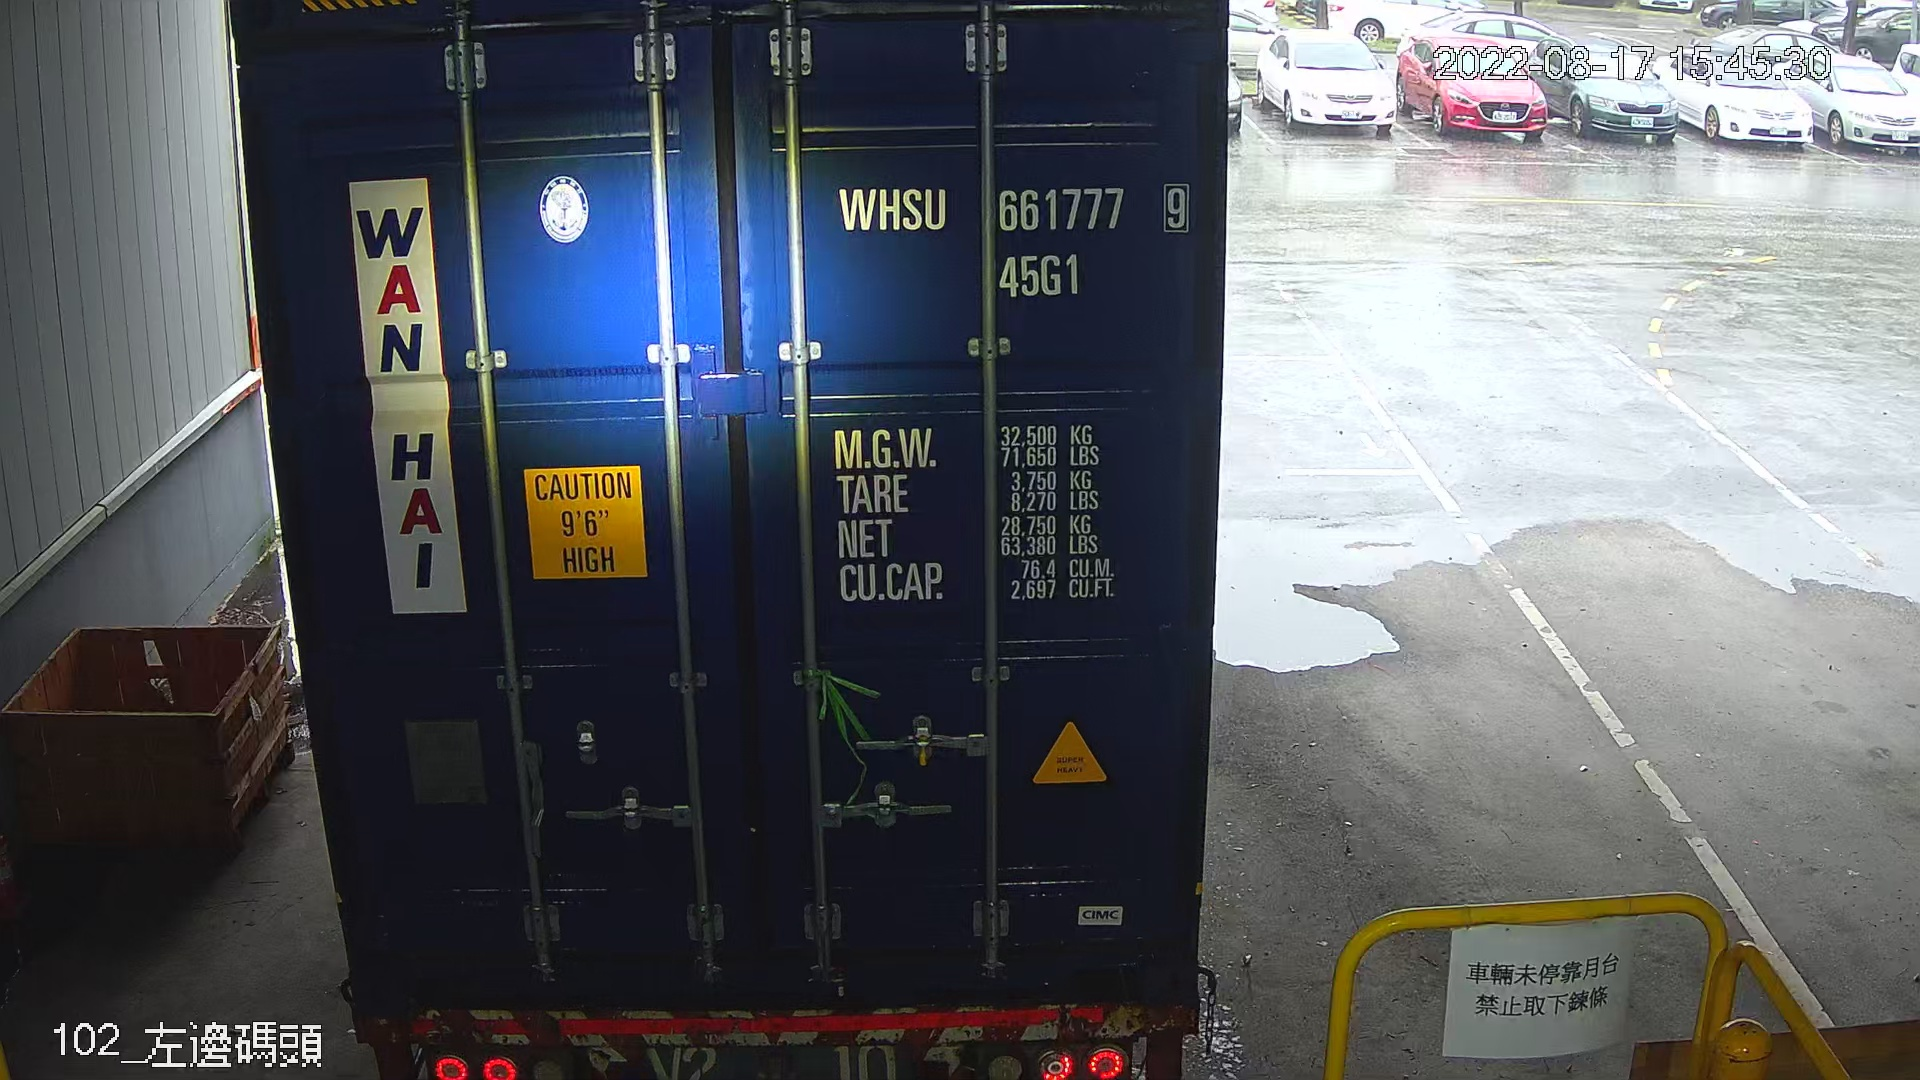container: (825, 173, 1204, 316)
